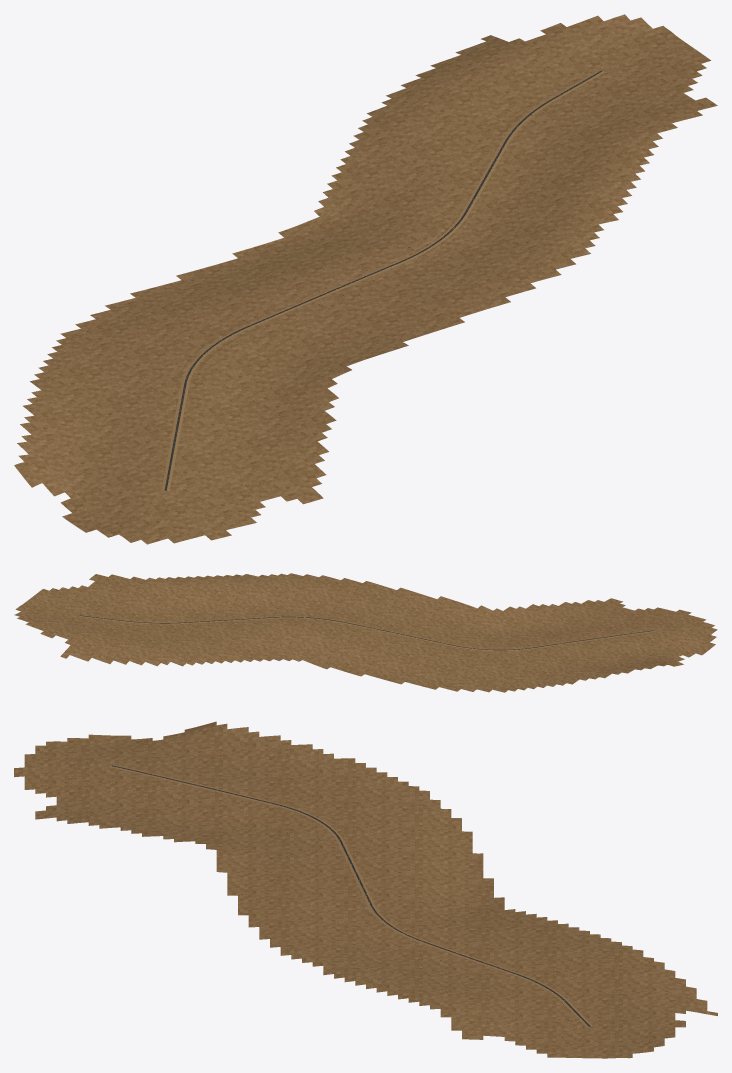
The picture shows the model from 3 angles, top to bottom: view 1: azimuth 30°, elevation 25°; view 2: azimuth 150°, elevation 25°; view 3: azimuth 270°, elevation 25°; orthographic projection. The views are drawn at different scales.
Visible parts, largest first — view 1: S06_TERRAIN_LOD0_WEB_EXPORT, V2_LANDFORM_S06_CUT_FILL_LEFT_WEB_EXPORT, V2_LANDFORM_S06_CUT_FILL_RIGHT_WEB_EXPORT, S06_ROAD_ASPHALT_LOD0_WEB_EXPORT; view 2: S06_TERRAIN_LOD0_WEB_EXPORT, V2_LANDFORM_S06_CUT_FILL_RIGHT_WEB_EXPORT, S06_ROAD_ASPHALT_LOD0_WEB_EXPORT, V2_LANDFORM_S06_CUT_FILL_LEFT_WEB_EXPORT; view 3: S06_TERRAIN_LOD0_WEB_EXPORT, V2_LANDFORM_S06_CUT_FILL_LEFT_WEB_EXPORT, V2_LANDFORM_S06_CUT_FILL_RIGHT_WEB_EXPORT, S06_ROAD_ASPHALT_LOD0_WEB_EXPORT.
Part boxes in pixels (x1,y1,x2,y2): S06_TERRAIN_LOD0_WEB_EXPORT: (14,14,717,544); V2_LANDFORM_S06_CUT_FILL_LEFT_WEB_EXPORT: (167,71,604,490); V2_LANDFORM_S06_CUT_FILL_RIGHT_WEB_EXPORT: (161,70,599,490); S06_ROAD_ASPHALT_LOD0_WEB_EXPORT: (164,71,601,490); S06_TERRAIN_LOD0_WEB_EXPORT: (14,573,717,692); V2_LANDFORM_S06_CUT_FILL_RIGHT_WEB_EXPORT: (79,616,654,650); S06_ROAD_ASPHALT_LOD0_WEB_EXPORT: (80,615,653,650); V2_LANDFORM_S06_CUT_FILL_LEFT_WEB_EXPORT: (80,614,652,649); S06_TERRAIN_LOD0_WEB_EXPORT: (14,721,717,1058); V2_LANDFORM_S06_CUT_FILL_LEFT_WEB_EXPORT: (110,766,588,1027); V2_LANDFORM_S06_CUT_FILL_RIGHT_WEB_EXPORT: (112,764,592,1026); S06_ROAD_ASPHALT_LOD0_WEB_EXPORT: (111,765,590,1026).
Size of the model in its own units: 3400 by 265 by 2640.
Materials: 12 (9 with a texture image).
